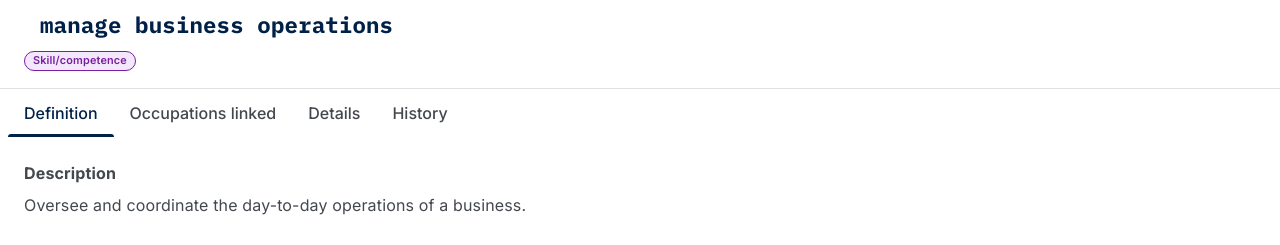
Scenario: ExplorerDetailPanel › Links tab › should label the links tab 'Occupations linked' and show requiring occupations with their code
Click the tab "Occupations linked": (203, 113) [114,89,292,137]
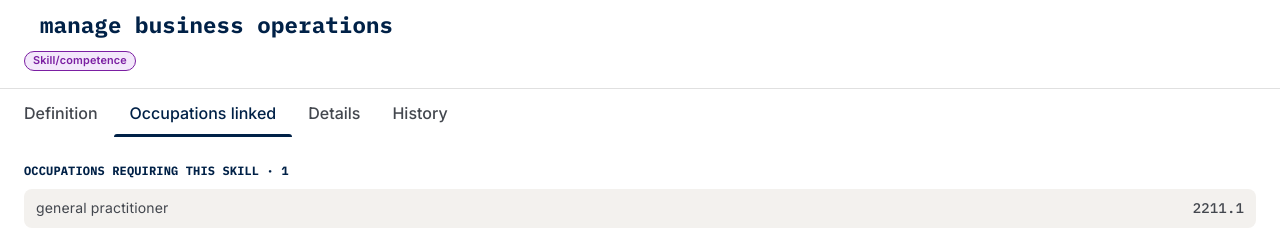
Now the text "Occupations requiring this skill · 1" is shown, box [24,163,289,178]
Now the text "general practitioner" is shown, box [36,198,168,218]
Now the text "2211.1" is shown, box [1193,198,1244,218]
